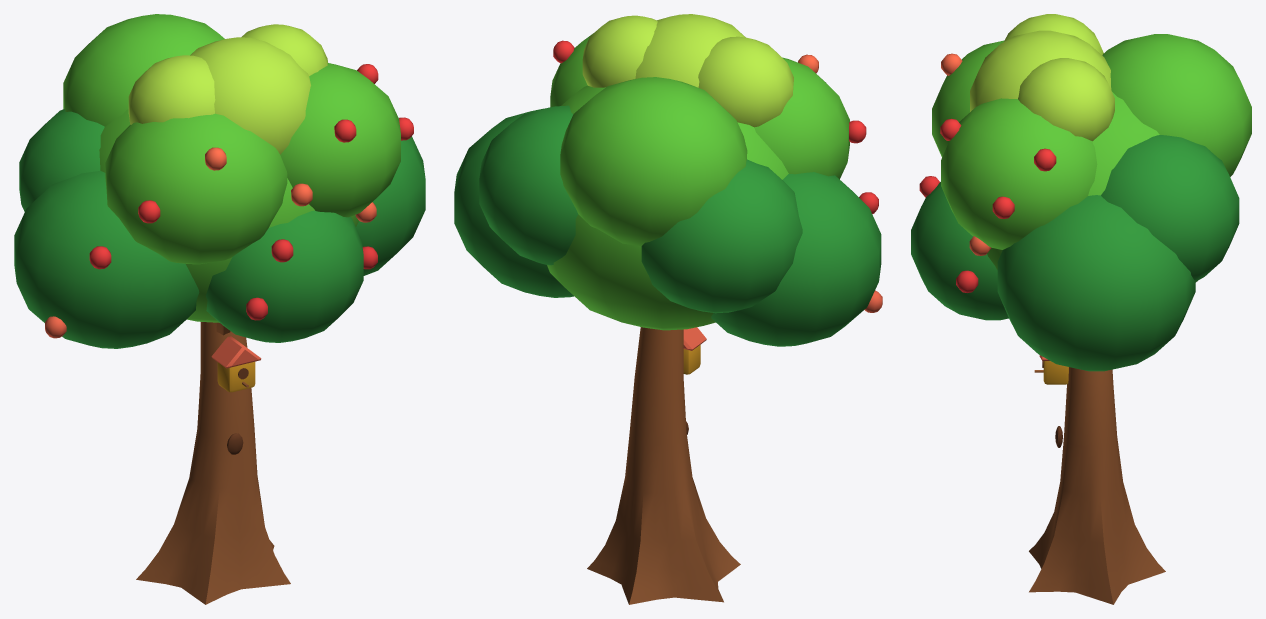
Rendered from tree_round.glb.
3 views of the same model, side by side, from view 1: azimuth 30°, elevation 25°; view 2: azimuth 150°, elevation 25°; view 3: azimuth 270°, elevation 25° (orthographic).
Parts seen in each view (by area): view 1: tree_round; view 2: tree_round; view 3: tree_round.
Part boxes in pixels (left/top/right/bottom): tree_round: left=14, top=14, right=425, bottom=604; tree_round: left=454, top=14, right=882, bottom=604; tree_round: left=911, top=14, right=1251, bottom=604.
Bounding box in the file's own units: 3.46 × 4.56 × 2.64.
